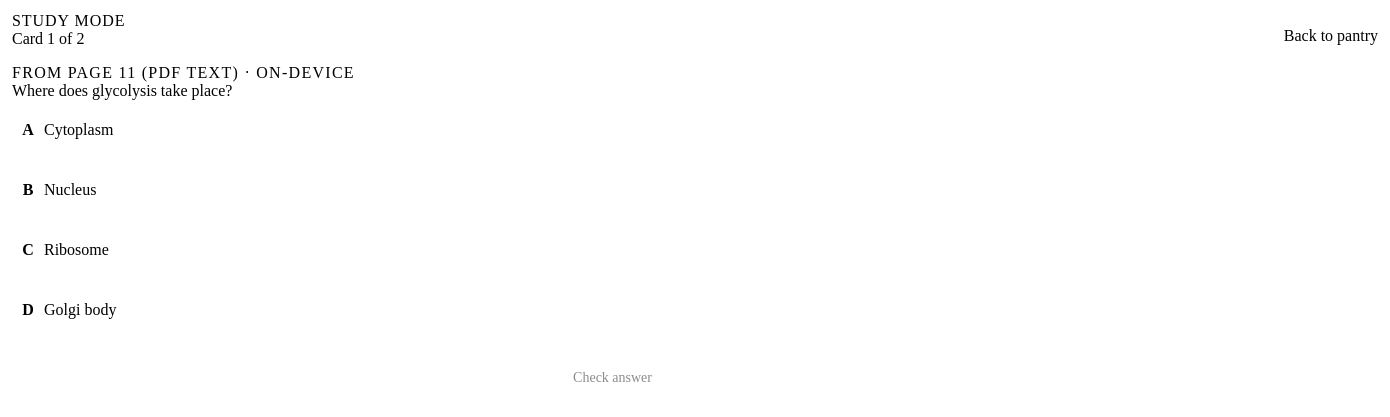
it: StudySession › tells the learner when an attempt fails to save
Click the button "A Cytoplasm".
click(79, 130)  # box [12,100,652,160]
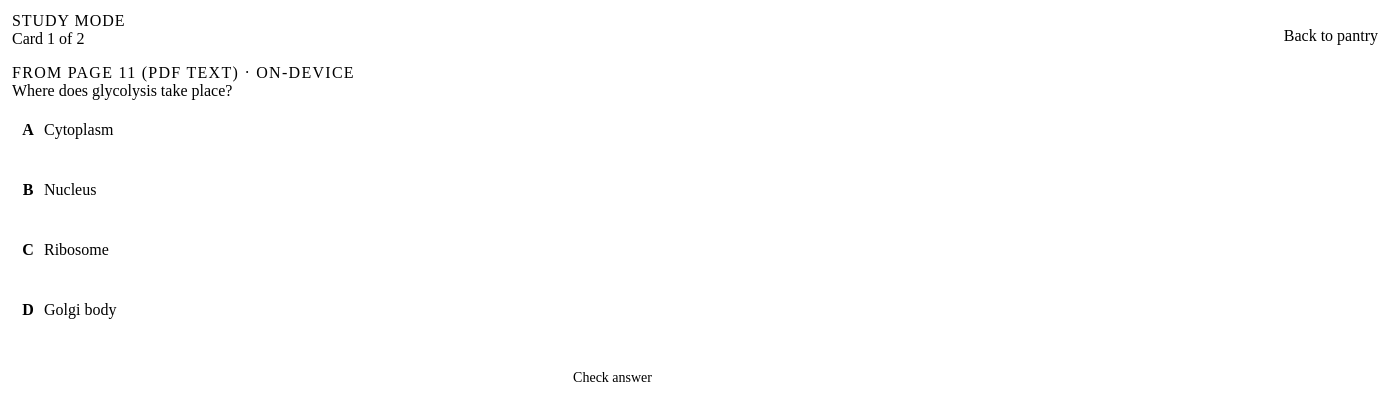
Click the button "Check answer".
click(613, 378)  # box [573,356,652,400]
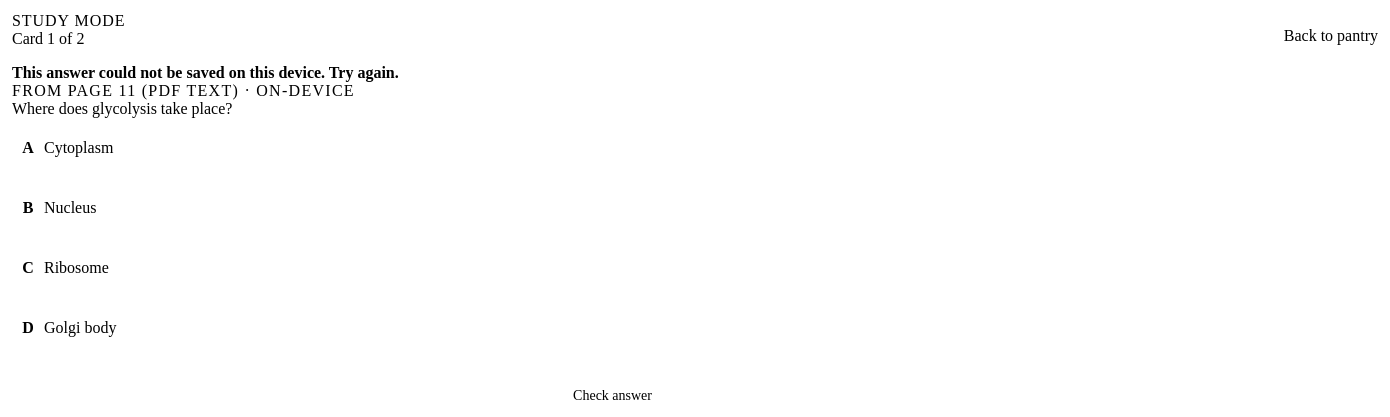
expect the message shows "could not be saved on this device": met, box [12,64,399,81]
